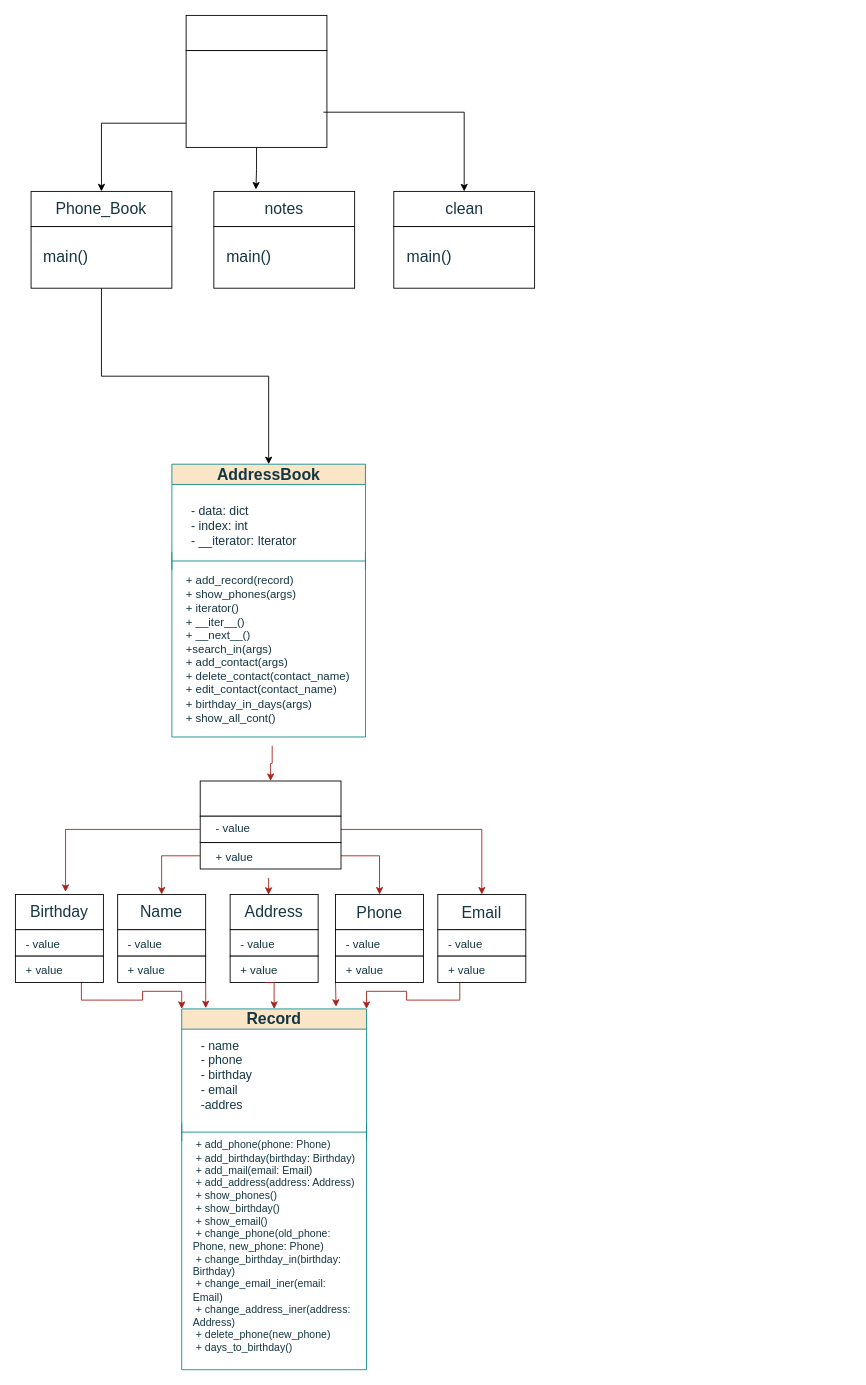
Some shapes in this 866 by 1385 pixel diagram are drawn without their labels. The shapes that lost their labels are listed below. From the top down, each one's centre as x and y in pixels, then its label:
(256,33): main.py
(256,98): run() show_greeting() input_text()
(270,798): Field
